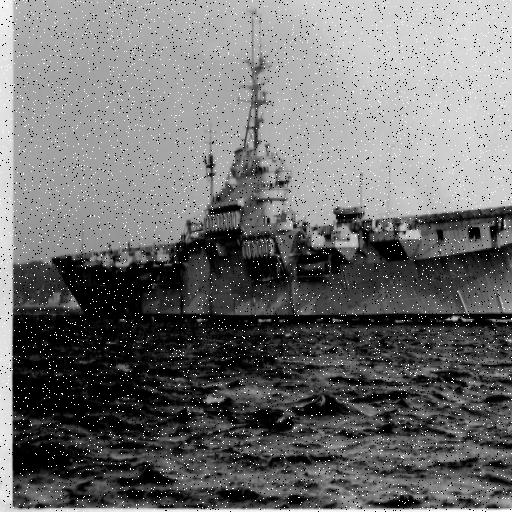Portanaves: (45, 1, 512, 324)
